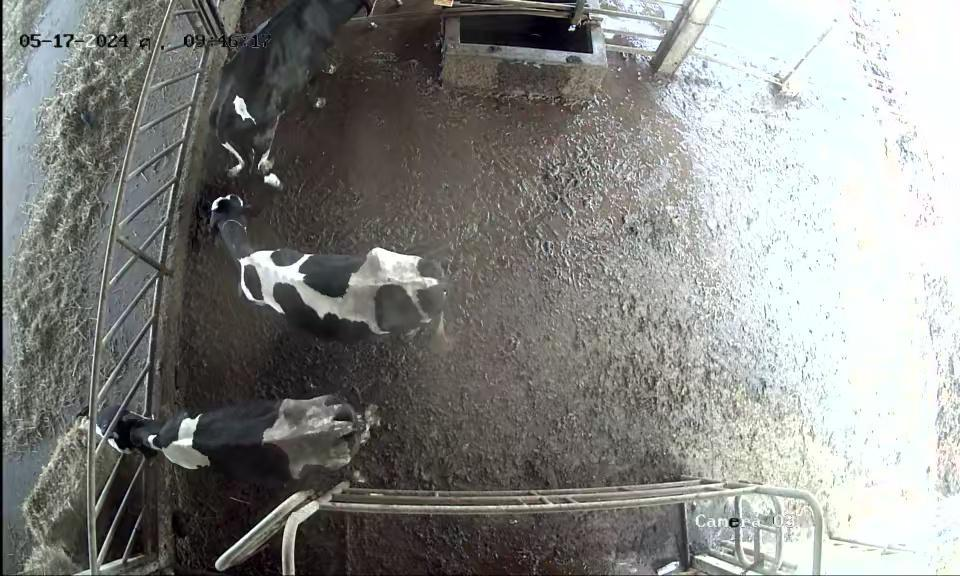eat: (56, 391, 183, 466)
stand: (202, 193, 482, 362), (199, 0, 424, 189)
